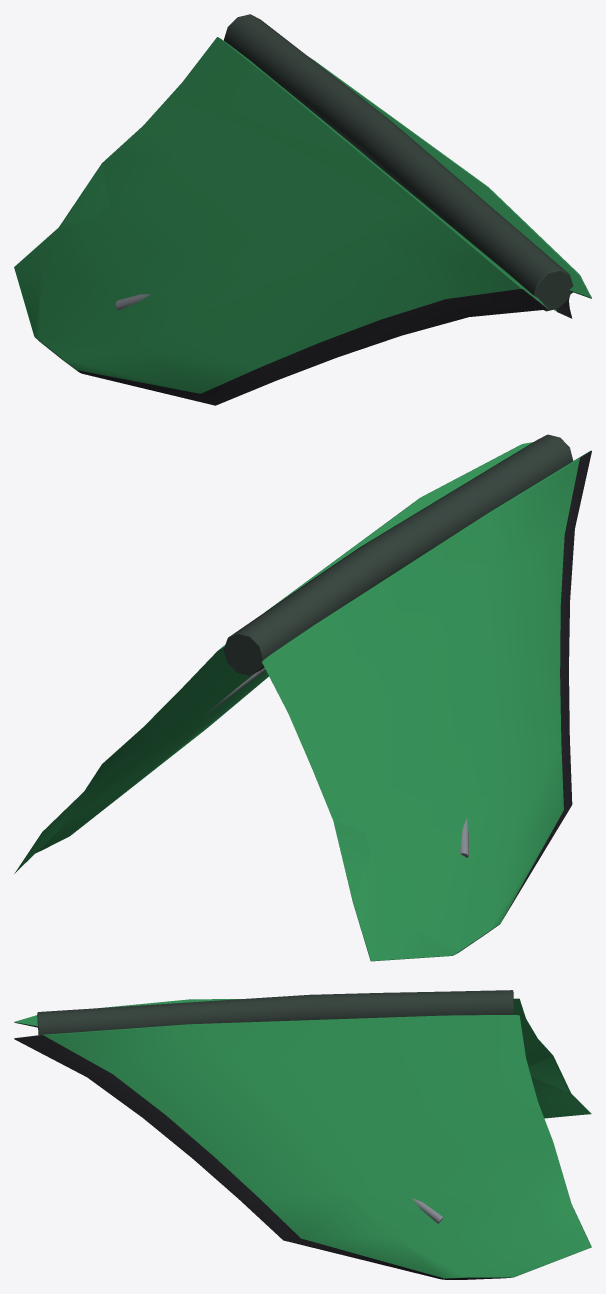
File: wraith_tail_ep.fbx
The picture shows the model from 3 angles, top to bottom: view 1: azimuth 30°, elevation 25°; view 2: azimuth 150°, elevation 25°; view 3: azimuth 270°, elevation 25°; orthographic projection. The views are drawn at different scales.
Parts seen in each view (by area): view 1: Tail_V; view 2: Tail_V; view 3: Tail_V.
Part boxes in pixels (x1,y1,x2,y2): Tail_V: [14, 14, 591, 405]; Tail_V: [14, 434, 591, 961]; Tail_V: [14, 990, 591, 1279].
Bounding box in the file's own units: 59.37 × 36.54 × 90.92.
